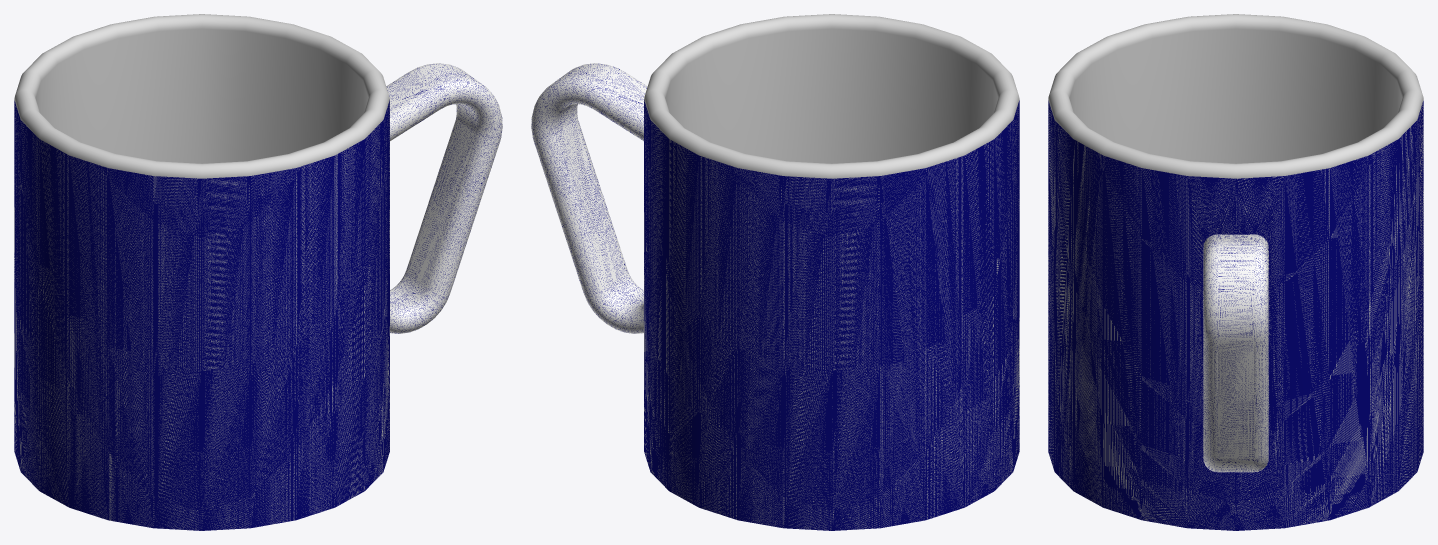
3 views of the same model, side by side, from view 1: azimuth 30°, elevation 25°; view 2: azimuth 150°, elevation 25°; view 3: azimuth 270°, elevation 25° (orthographic).
Parts seen in each view (by area): view 1: SketchUp (×3); view 2: SketchUp (×3); view 3: SketchUp (×3).
Part boxes in pixels (x1=…): SketchUp (×3): x1=14, y1=14, x2=502, y2=530; SketchUp (×3): x1=531, y1=14, x2=1019, y2=530; SketchUp (×3): x1=1048, y1=14, x2=1423, y2=530.
Bounding box in the file's own units: 180 × 130 × 138.
